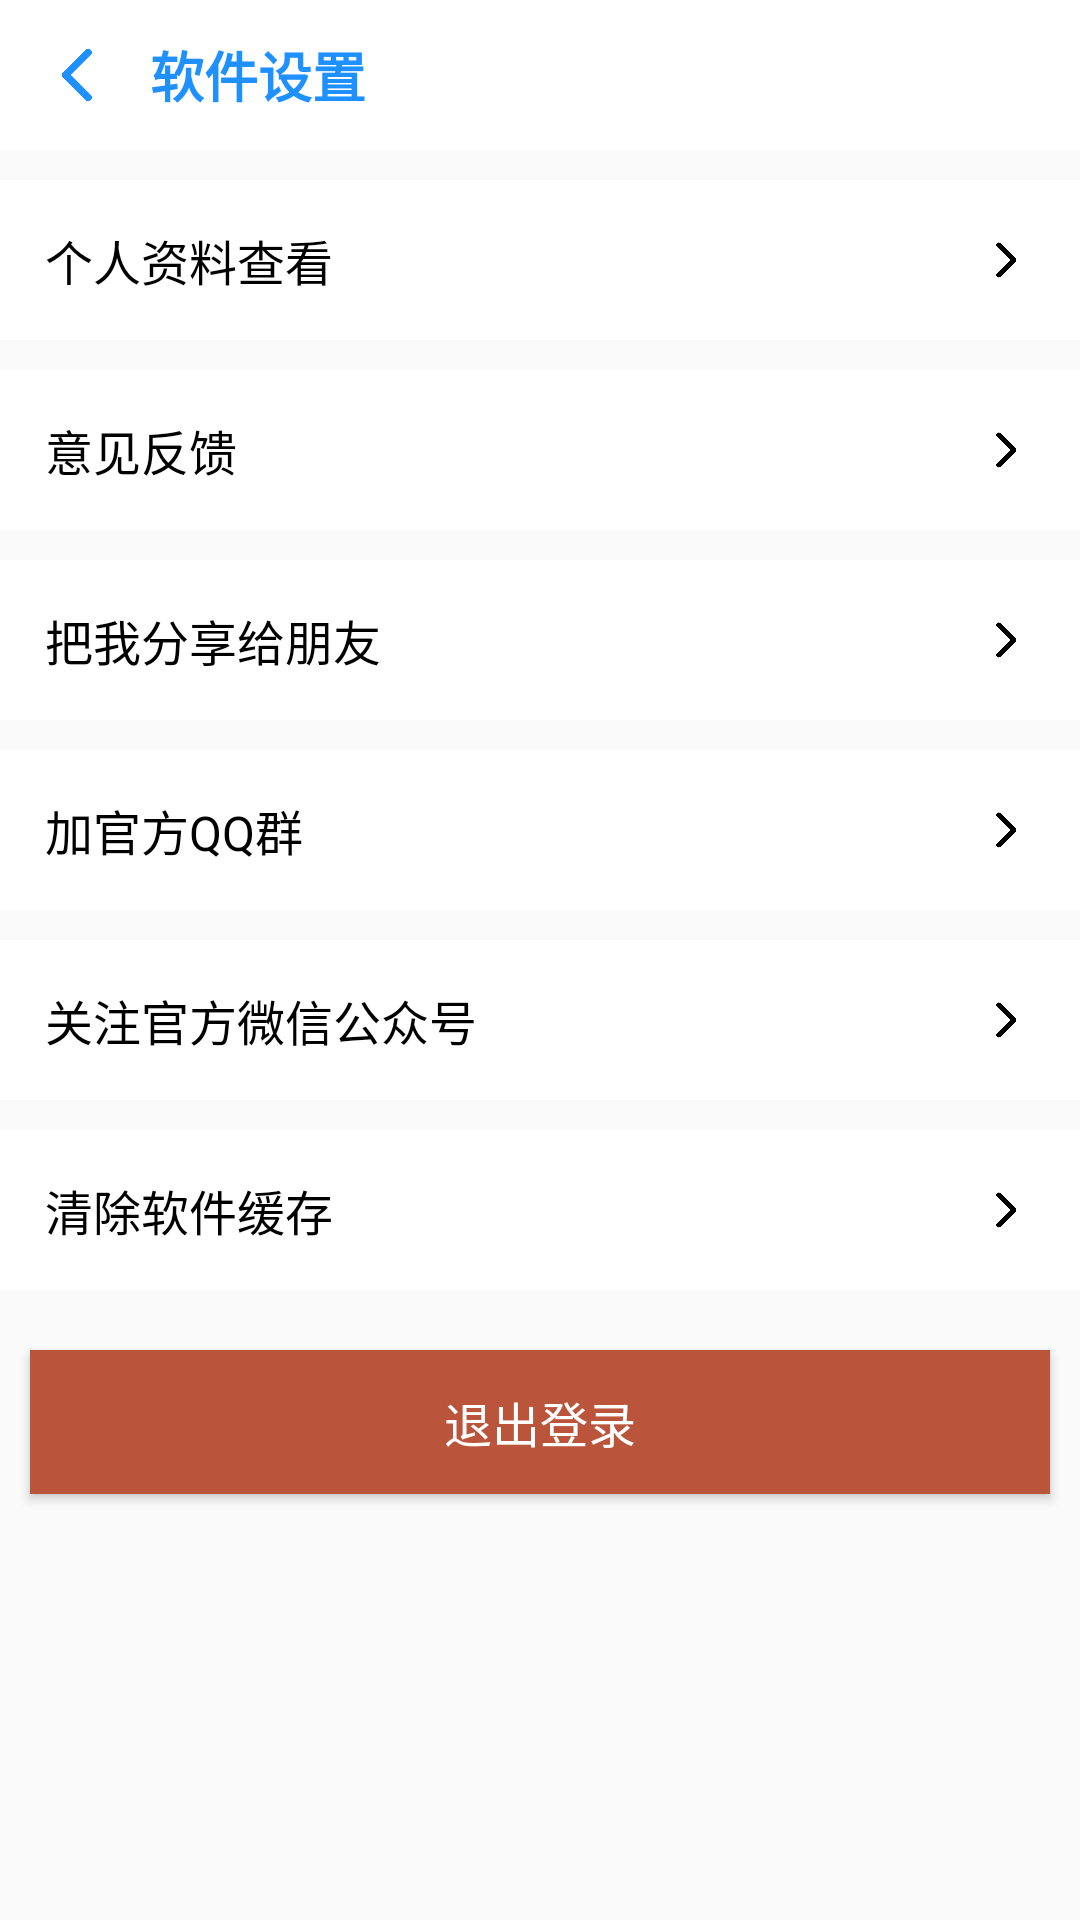

Named icons in this screenshot (1080x1920) and their bounding boxes, (x1, y1, x2, y2):
left: (62, 49, 92, 101)
right: (996, 242, 1016, 278), (996, 432, 1016, 468), (996, 622, 1016, 658), (996, 812, 1016, 848), (996, 1002, 1016, 1038), (996, 1192, 1016, 1228)
